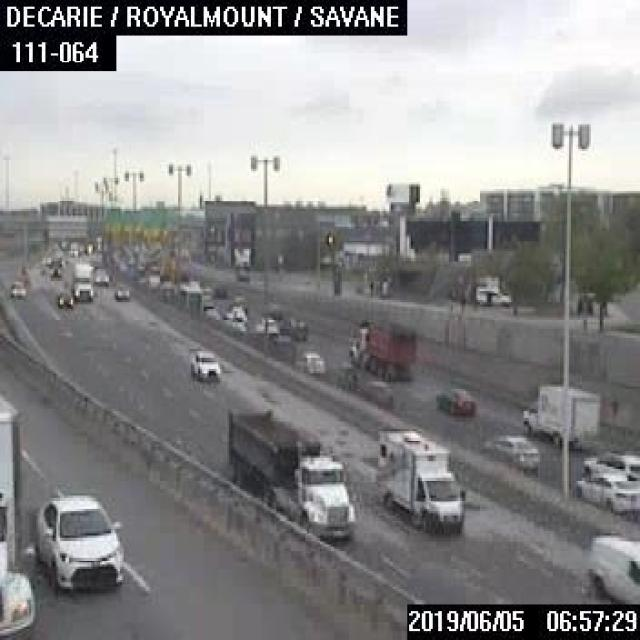vehicle: (228, 407, 356, 538), (371, 424, 465, 534), (31, 489, 122, 589), (0, 391, 35, 638), (520, 382, 598, 450), (347, 316, 413, 380), (584, 531, 638, 602), (571, 472, 638, 516), (480, 433, 539, 469), (582, 448, 638, 476), (432, 384, 474, 416), (185, 347, 220, 378), (71, 258, 92, 298), (291, 351, 325, 374), (474, 286, 510, 306), (278, 316, 306, 338), (254, 316, 276, 334), (224, 305, 246, 322), (113, 279, 131, 298), (261, 300, 280, 316), (230, 290, 246, 307), (9, 280, 24, 296), (57, 289, 72, 305), (93, 266, 107, 283), (47, 263, 60, 276), (68, 241, 78, 256)
